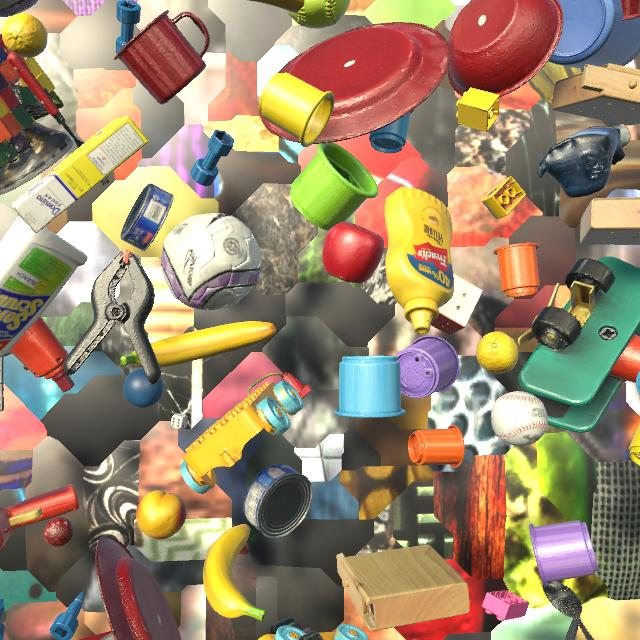ycb_003_cracker_box: (79, 625, 141, 640)
ycb_004_sugar_box: (12, 116, 149, 233)
ycb_006_mustard_bottle: (384, 187, 454, 334)
ycb_007_tuna_fish_can: (243, 464, 313, 539), (120, 183, 173, 251)
ycb_008_pudding_box: (0, 356, 4, 412)
ycb_011_banana: (119, 321, 276, 368), (203, 524, 266, 621), (249, 0, 304, 13)
ycb_013_apple: (322, 221, 385, 284)
ycb_014_lemon: (2, 13, 48, 58), (476, 332, 519, 374)
ycb_015_peach: (136, 490, 186, 539)
